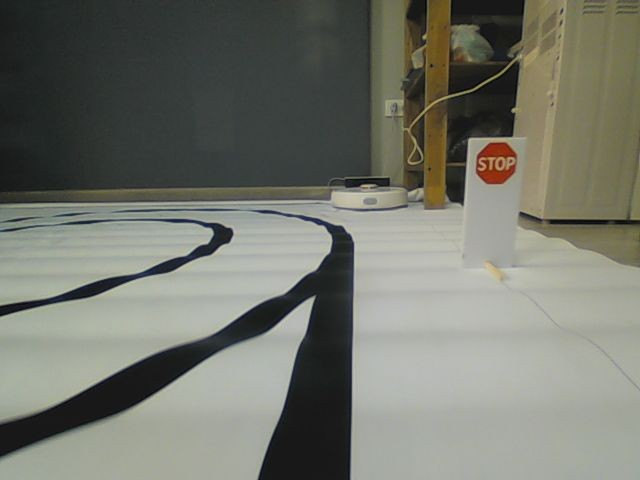Stop: (475, 142, 517, 185)
